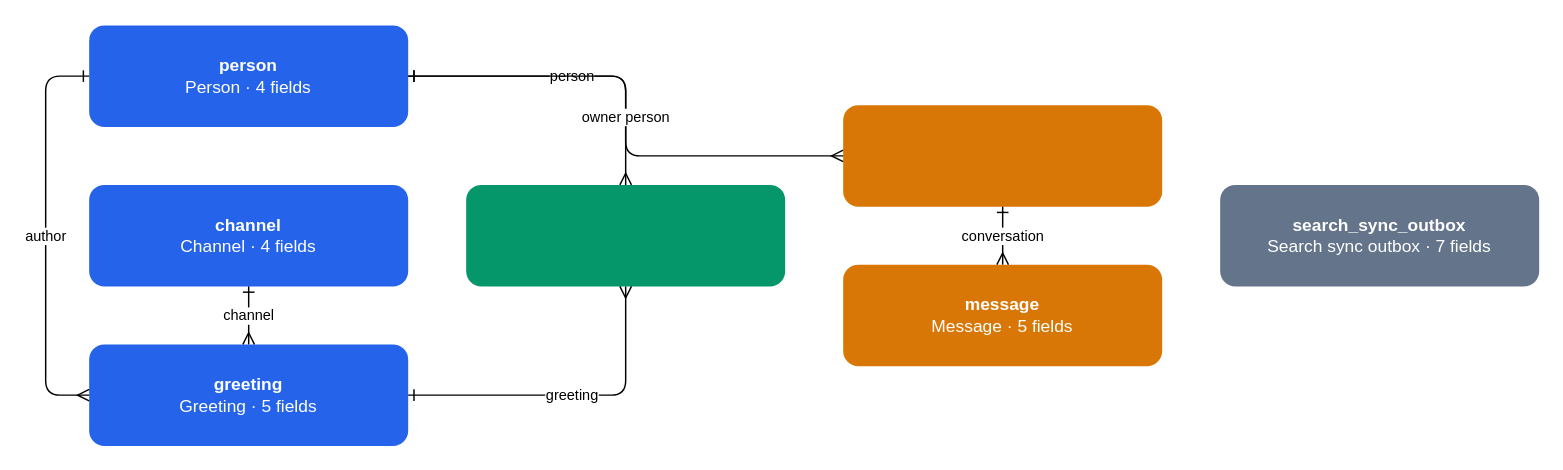
Image size: 1563x470. Some labels were removed from this diagram. The centre of each missing label's shape, as x and y in pixels:
conversation Conversation · 5 fields: pixel 1001 155
greeting_reaction Greeting reaction · 5 fields: pixel 624 235
